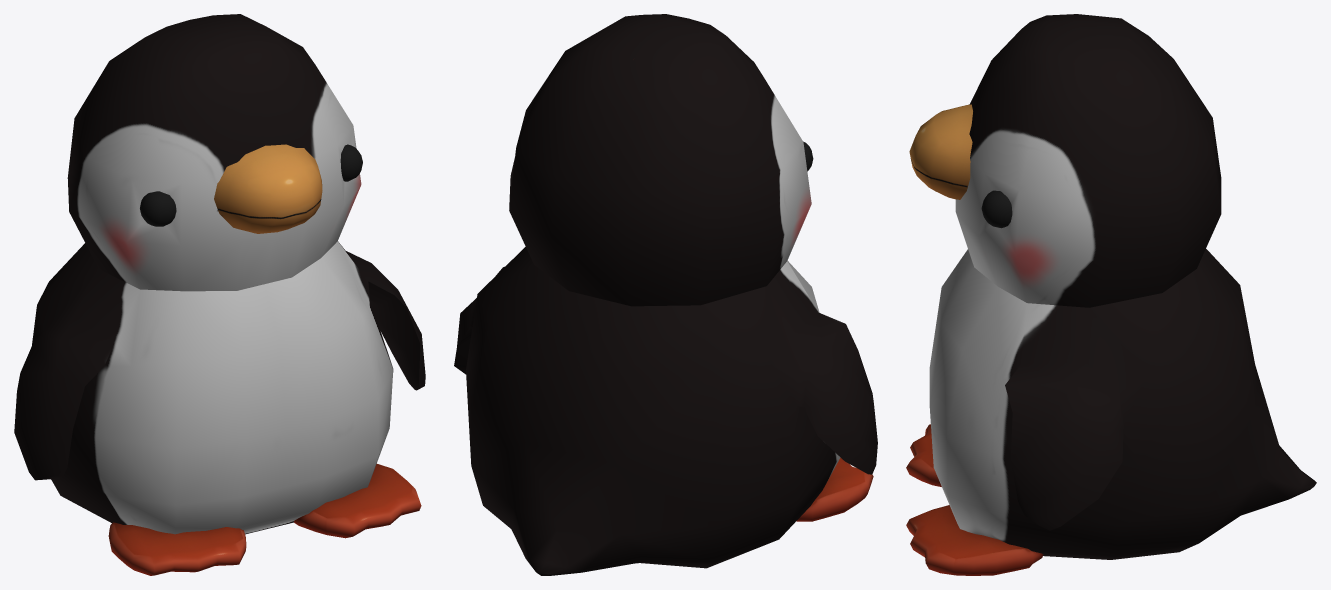
Rendered from Penguin.fbx.
3 renders of one model, left to right at view 1: azimuth 30°, elevation 25°; view 2: azimuth 150°, elevation 25°; view 3: azimuth 270°, elevation 25°, orthographic. The views are drawn at different scales.
Visible parts, largest first — view 1: Box001; view 2: Box001; view 3: Box001.
Part boxes in pixels (x1,y1,x2,y2): Box001: [14, 14, 425, 575]; Box001: [454, 14, 877, 575]; Box001: [906, 14, 1316, 575].
Bounding box in the file's own units: 210 × 243 × 187.
Materials: 1 (1 with a texture image).
